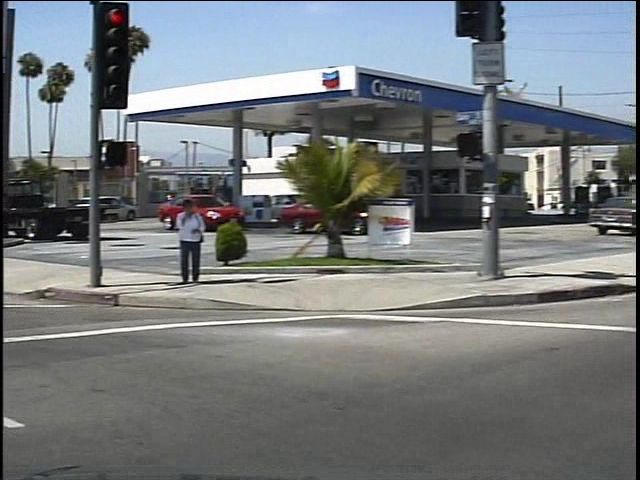person: (166, 195, 200, 290)
